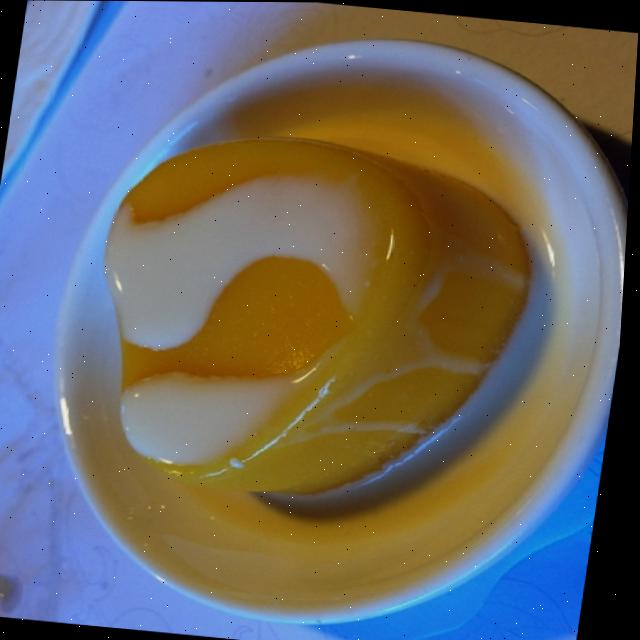蛋糕甜品: (54, 117, 558, 512)
